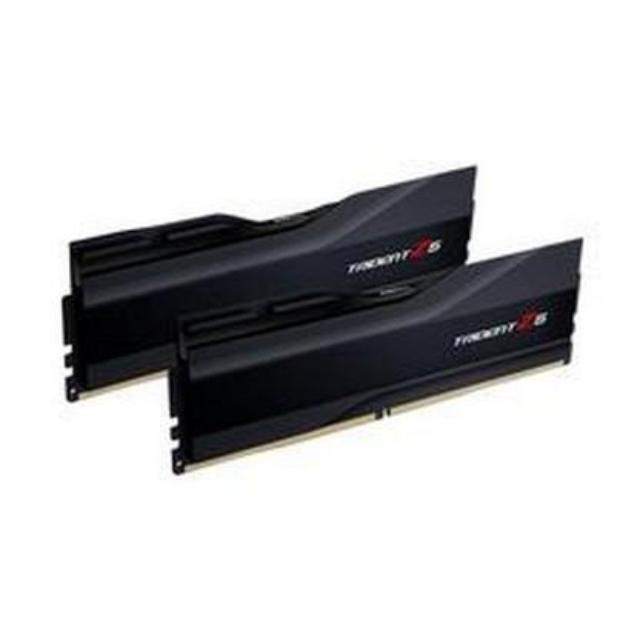RAM: (56, 166, 588, 484)
